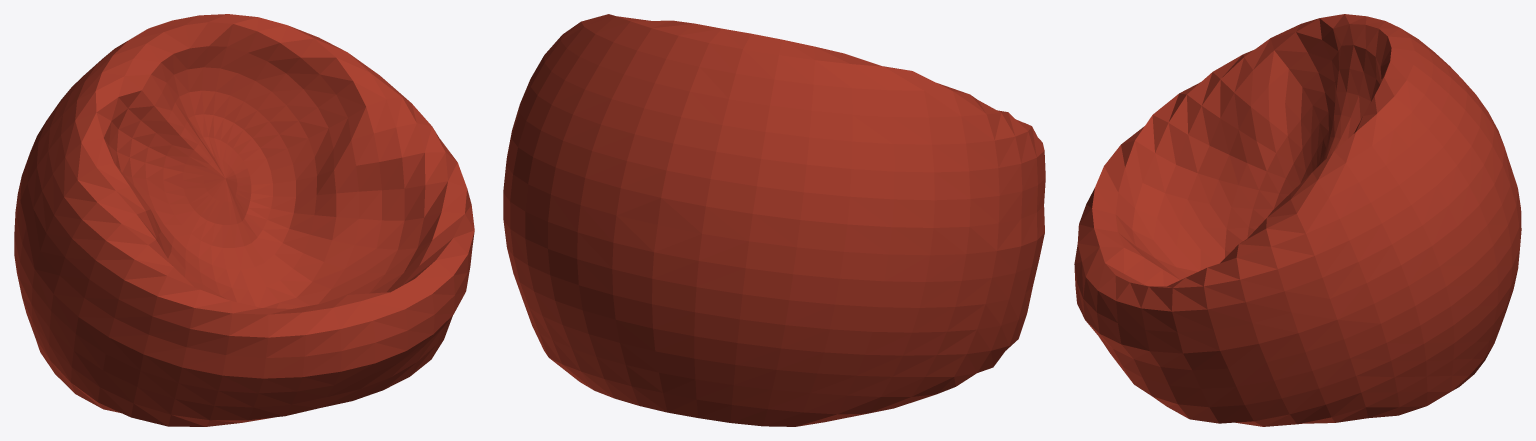
File: Chair-1MFMOaz3zqe.glb
The picture shows the model from 3 angles, left to right: view 1: azimuth 30°, elevation 25°; view 2: azimuth 150°, elevation 25°; view 3: azimuth 270°, elevation 25°; orthographic projection. The views are drawn at different scales.
Visible parts, largest first — view 1: Node; view 2: Node; view 3: Node.
Part boxes in pixels (left/top/right/bottom): Node: left=14, top=14, right=474, bottom=426; Node: left=503, top=14, right=1045, bottom=426; Node: left=1074, top=14, right=1521, bottom=426.
Bounding box in the file's own units: 42.01 × 29.75 × 40.46.
